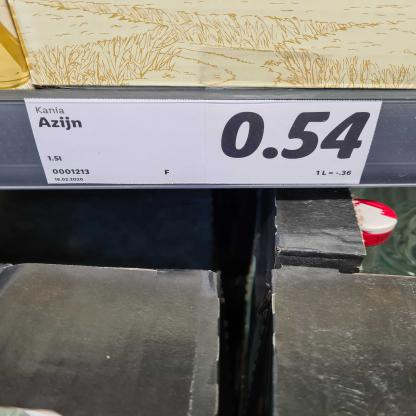prtg: (25, 99, 383, 185)
